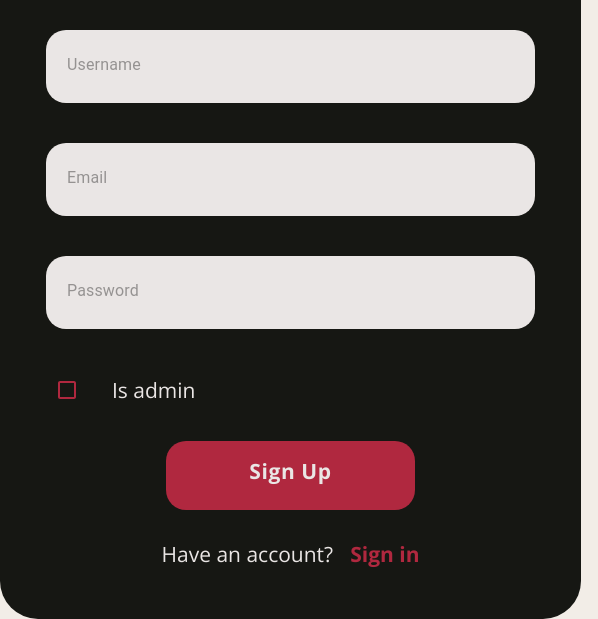
Test: RegisterForm › should show required validation errors on empty submit
(page scrolled)
Click the button "Sign Up" at (291, 475), box [166,441,415,510]
(page scrolled)
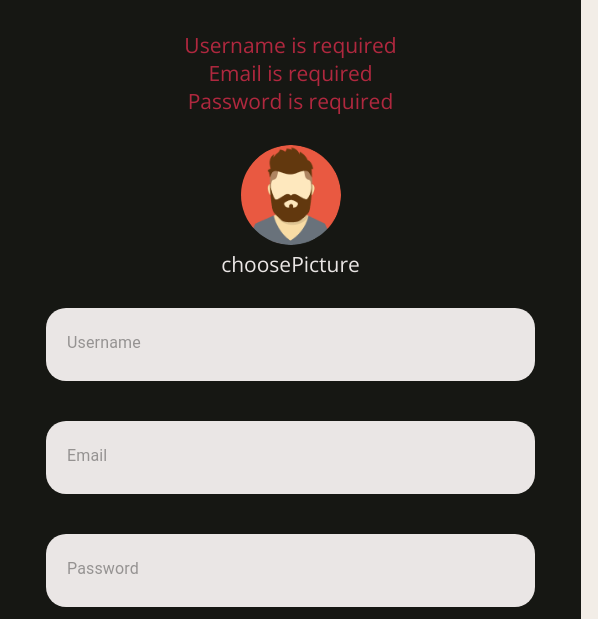
Expected: the heading "Username is required" is shown, [184,31,397,59]
Expected: the heading "Email is required" is shown, [208,59,373,87]
Expected: the heading "Password is required" is shown, [184,87,397,115]
